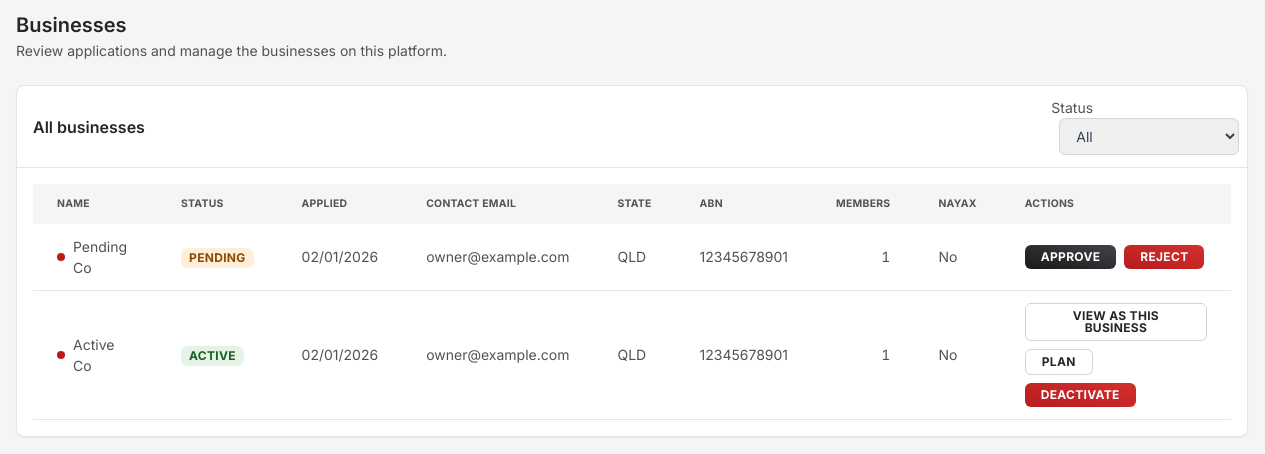
Test: SuperAdminBusinessesComponent (issue #547) › filters the table by the selected status
Select "Active" in the dropdown labelled "Status" at [1149, 136], box [1059,118,1239,155]
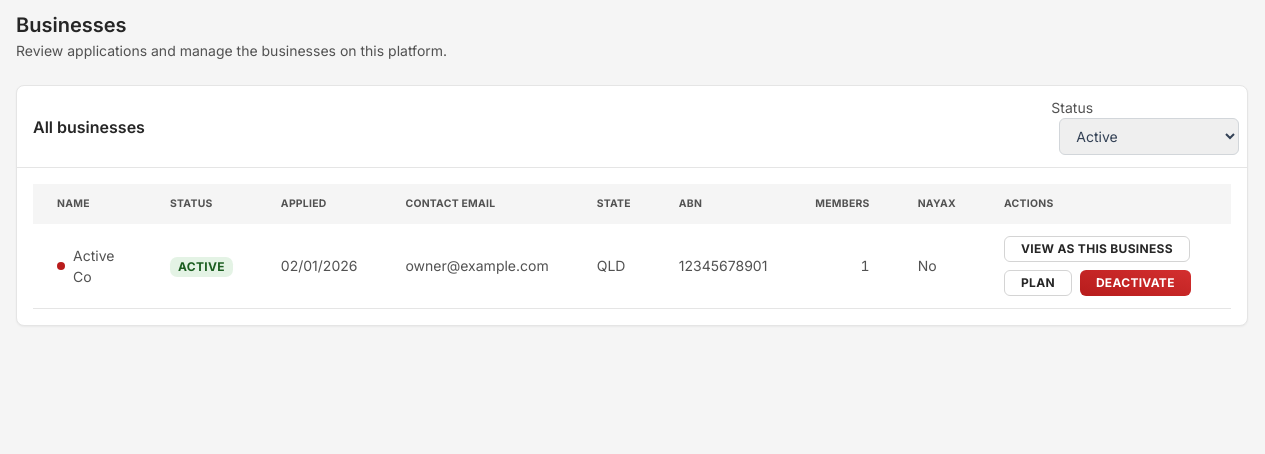
Expected: the text "Active Co" is shown, [57,245,122,287]
Expected: the text "Pending Co" is gone
